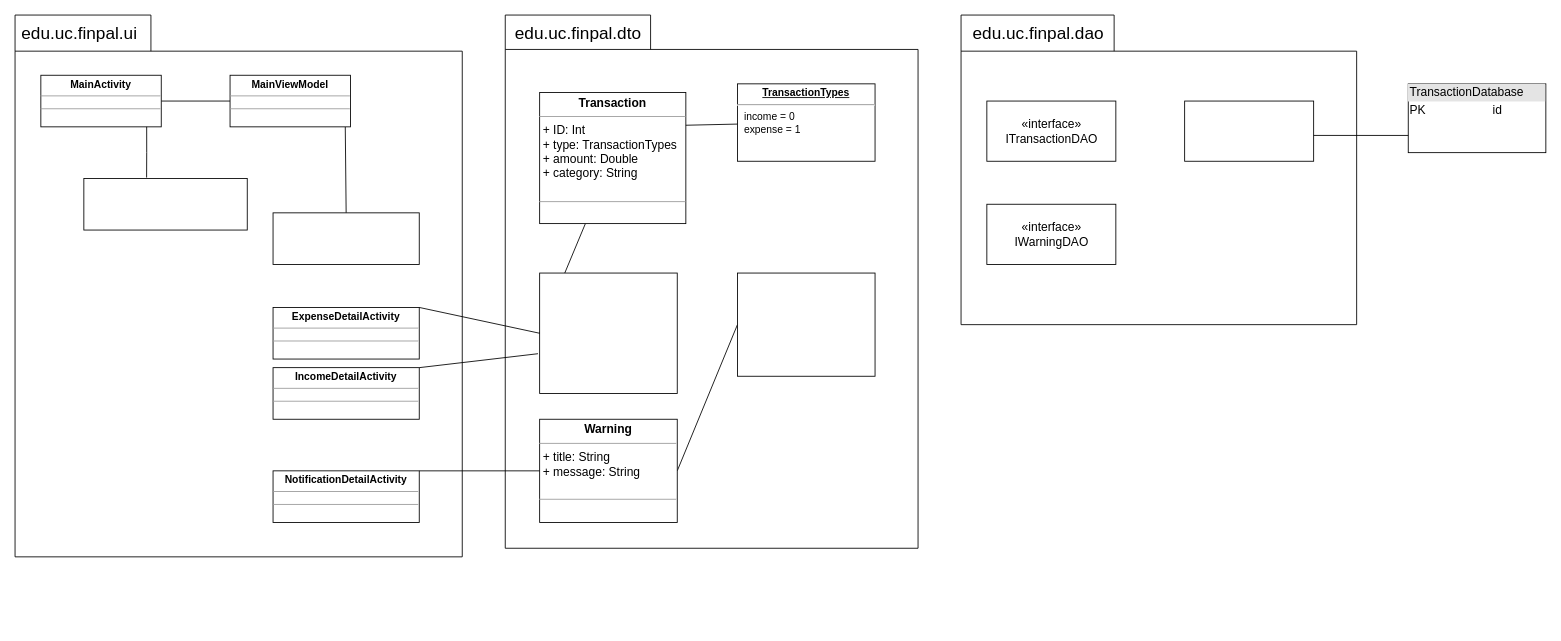
Some shapes in this 1561 by 641 pixel diagram are drawn without their labels. The centre of each missing label's shape, as x and y in pixels:
AppDatabase: point 1249,130
Category + name: String + type: Int + total: Double: point 608,332
ContextAwareViewModel: point 165,204
Limit + maxAmt: Double + message: String: point 806,324
RetrofitClientInstance: point 345,238
